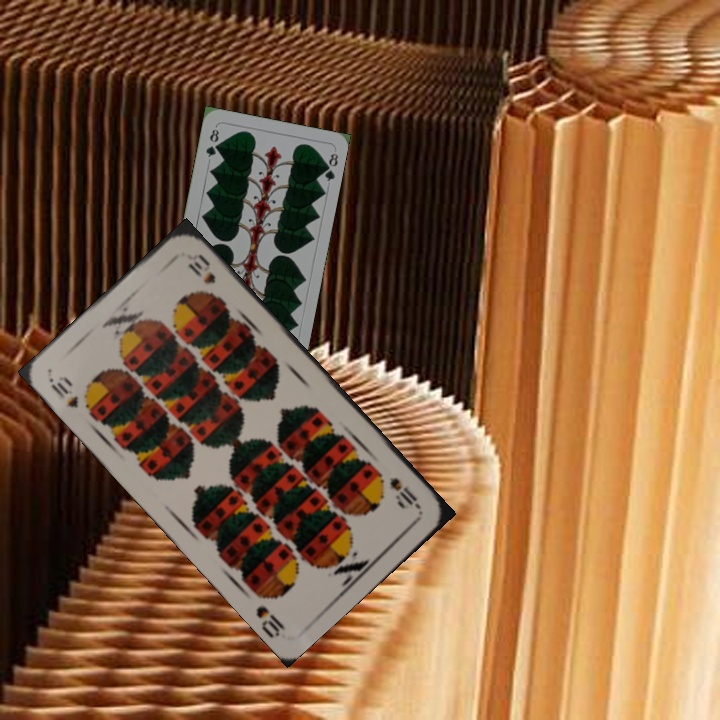G8: (202, 125, 221, 160)
S10: (385, 473, 424, 512), (45, 372, 81, 411)
